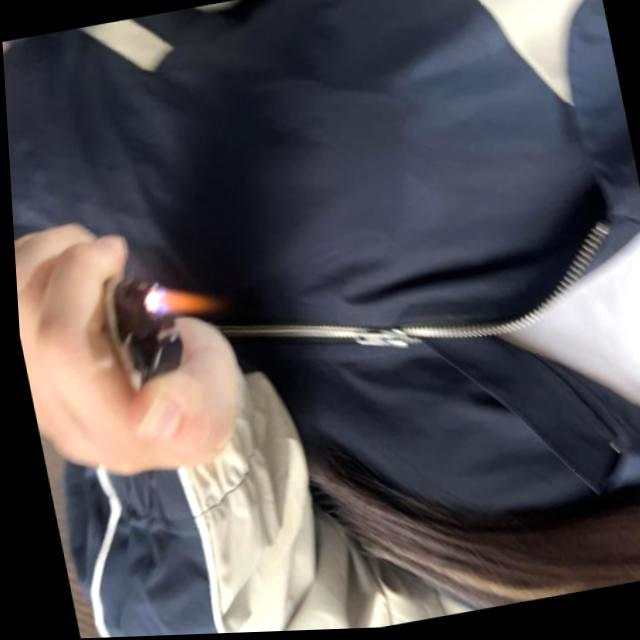fire: (135, 276, 221, 322)
